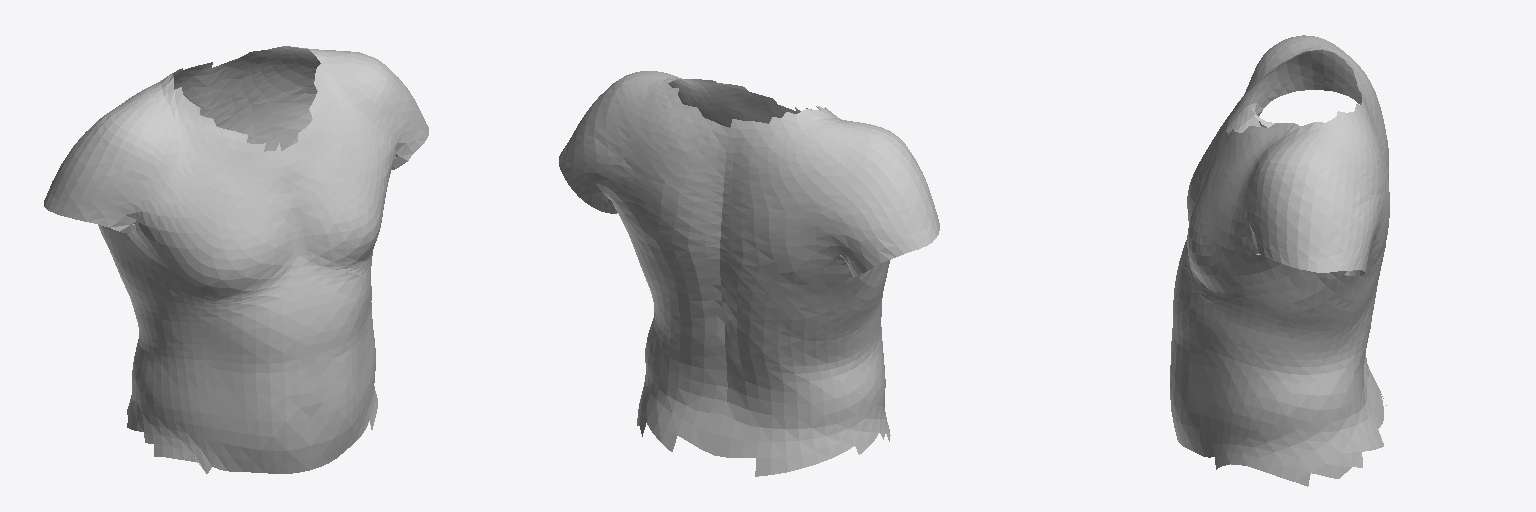
File: menshirt.obj
3 renders of one model, left to right at view 1: azimuth 30°, elevation 25°; view 2: azimuth 150°, elevation 25°; view 3: azimuth 270°, elevation 25°, orthographic.
Visible parts, largest first — view 1: shirt_pelvis.001; view 2: shirt_pelvis.001; view 3: shirt_pelvis.001.
Boxes of the visible parts, x1,y1,x2,y2 form: shirt_pelvis.001: [44, 46, 428, 473]; shirt_pelvis.001: [559, 71, 939, 476]; shirt_pelvis.001: [1170, 35, 1389, 486].
Size of the model in its own units: 0.6102 by 0.5561 by 0.3121.